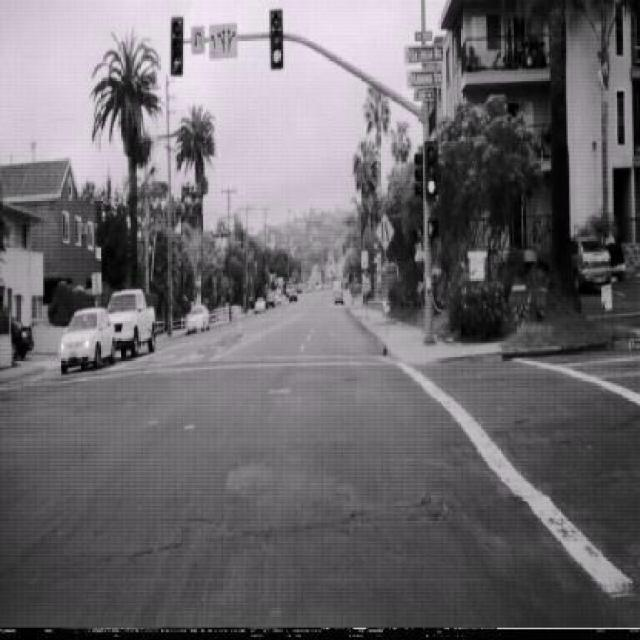laneEnds: (374, 209, 395, 253)
